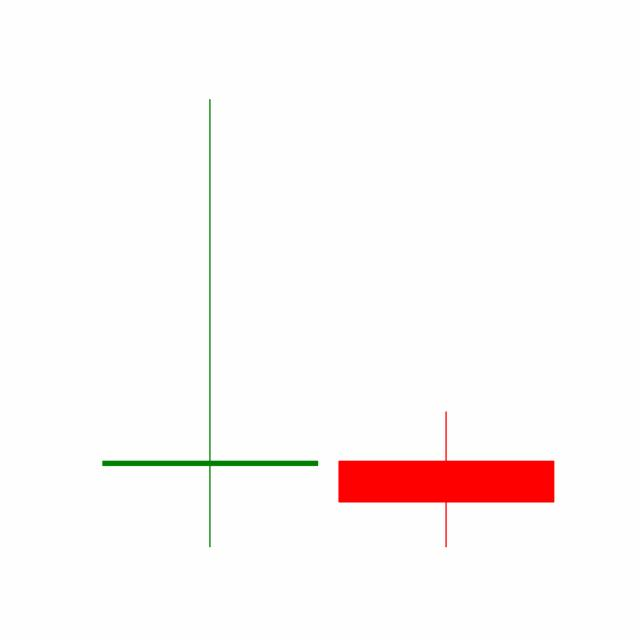Spinning Top: (327, 410, 565, 549)
